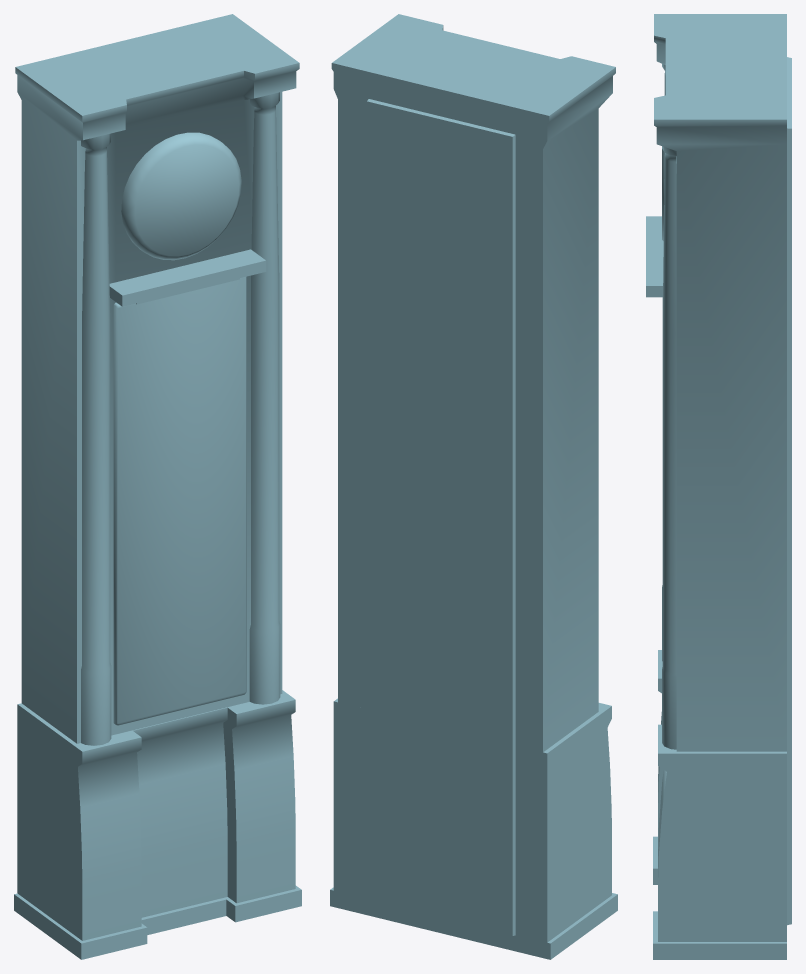
The model's file is lo_Prop_Clock_A.fbx.
The picture shows the model from 3 angles, left to right: view 1: azimuth 30°, elevation 25°; view 2: azimuth 150°, elevation 25°; view 3: azimuth 270°, elevation 25°; orthographic projection.
Parts seen in each view (by area): view 1: lo_Prop_Clock_A_LOD0; view 2: lo_Prop_Clock_A_LOD0; view 3: lo_Prop_Clock_A_LOD0.
Part boxes in pixels (<box>): lo_Prop_Clock_A_LOD0: <box>14,14,301,959</box>; lo_Prop_Clock_A_LOD0: <box>330,14,617,959</box>; lo_Prop_Clock_A_LOD0: <box>646,14,791,959</box>.
Size of what is drawn, in the model's own units: 1.07 by 3.93 by 0.6176.
